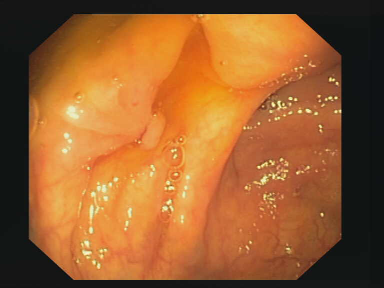polyp: (131, 101, 179, 168)
